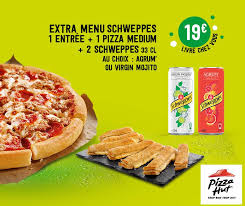not-coke: (164, 66, 235, 139)
